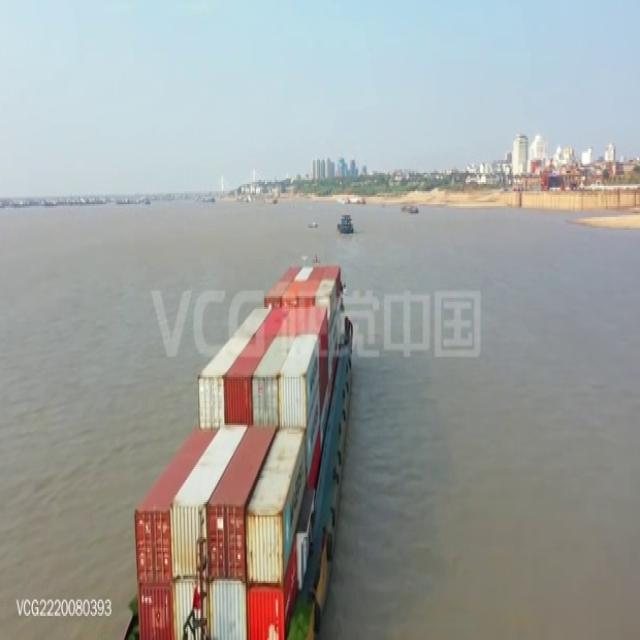cargoship: (123, 265, 356, 640)
